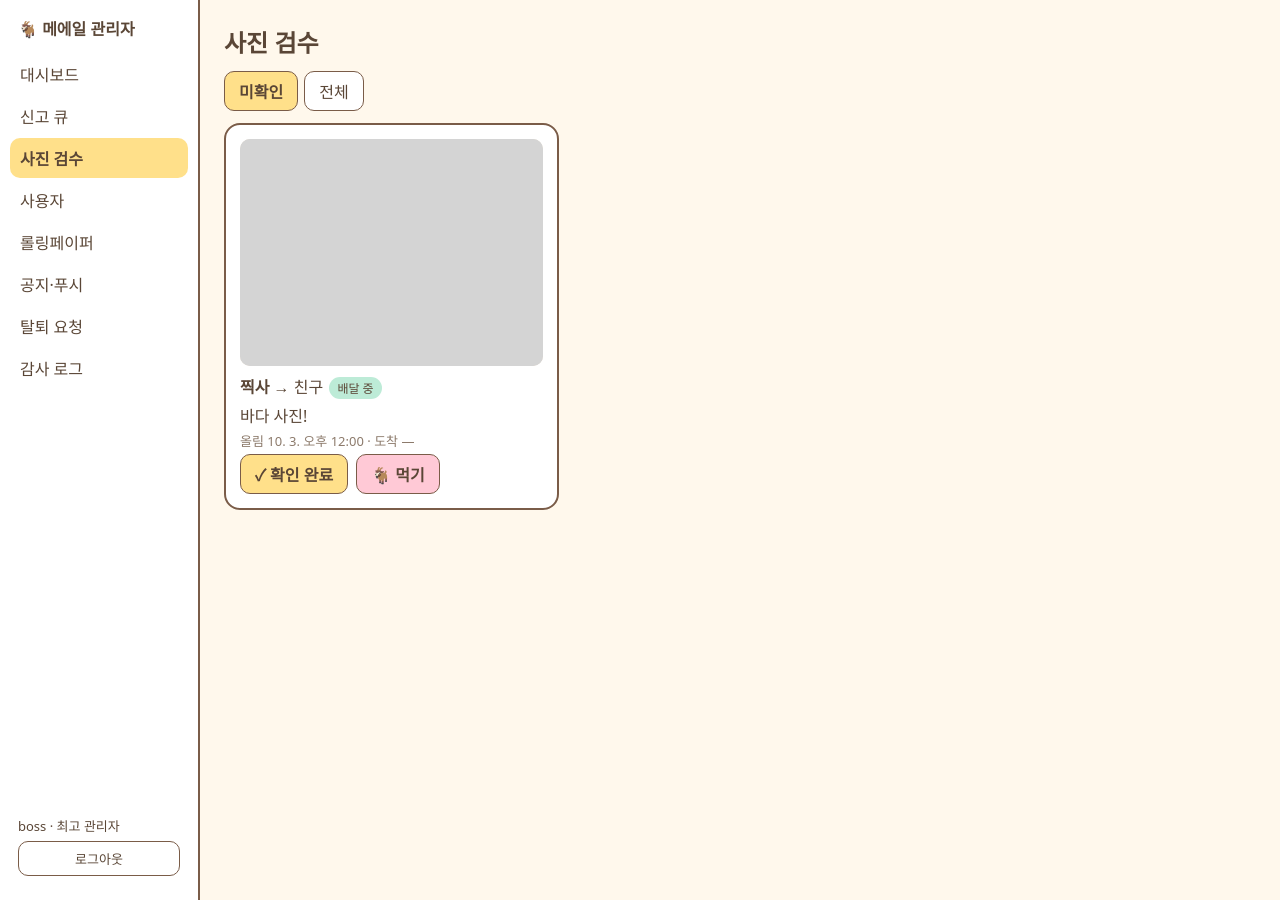
Test: 관리자 웹 › 사진 검수: 확인 완료하면 미확인 목록에서 빠진다
This screenshot has width=1280, height=900.
Click the button "✓ 확인 완료": (294, 474) [240, 454, 348, 494]
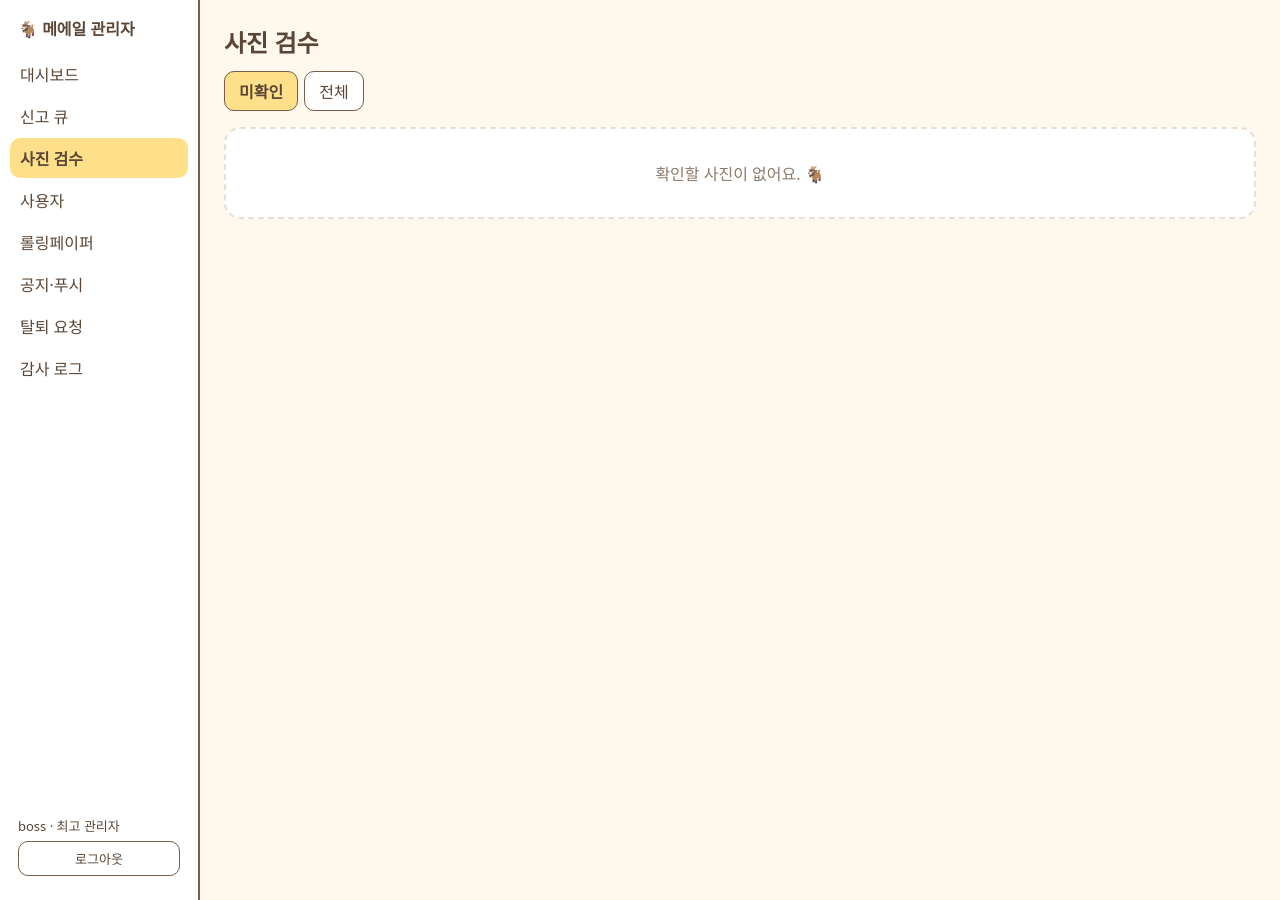
Check: the text "확인할 사진이 없어요. 🐐" is shown, box [224, 127, 1256, 219]
